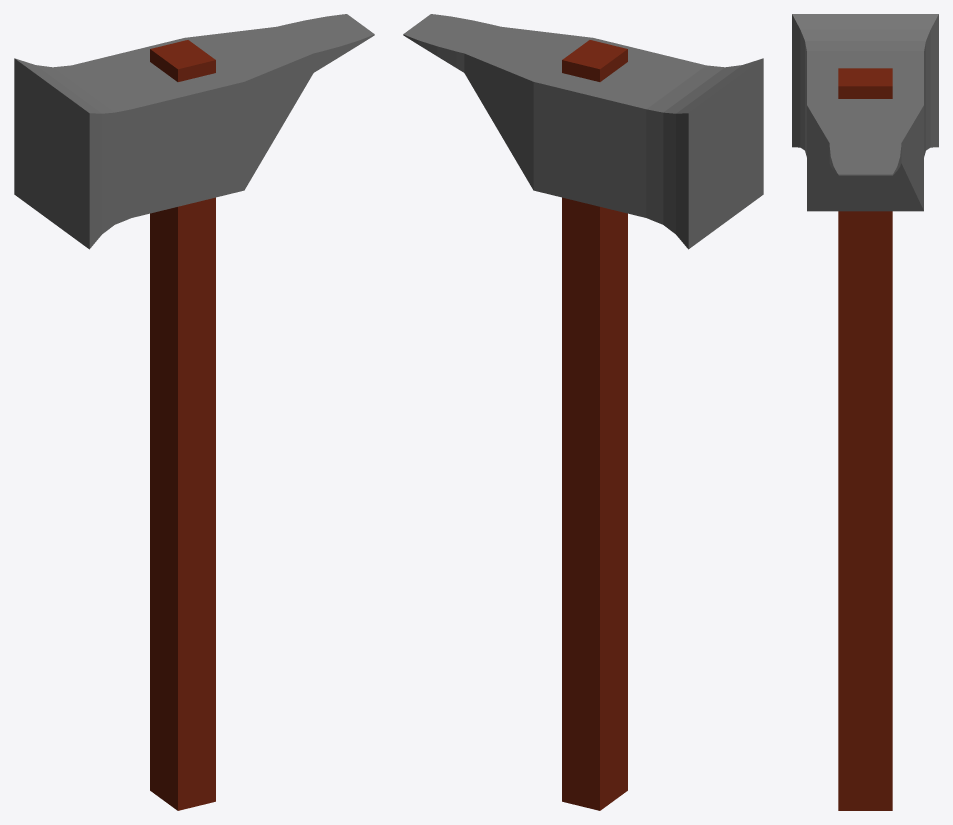
The model's file is hammer.fbx.
3 views of the same model, side by side, from view 1: azimuth 30°, elevation 25°; view 2: azimuth 150°, elevation 25°; view 3: azimuth 270°, elevation 25° (orthographic). The views are drawn at different scales.
Parts seen in each view (by area): view 1: Hammer; view 2: Hammer; view 3: Hammer.
Part boxes in pixels (left/top/right/bottom): Hammer: left=14, top=14, right=374, bottom=810; Hammer: left=403, top=14, right=763, bottom=810; Hammer: left=792, top=14, right=938, bottom=810.
Bounding box in the file's own units: 58.67 × 135 × 24.73.
Materials: 1 (1 with a texture image).
